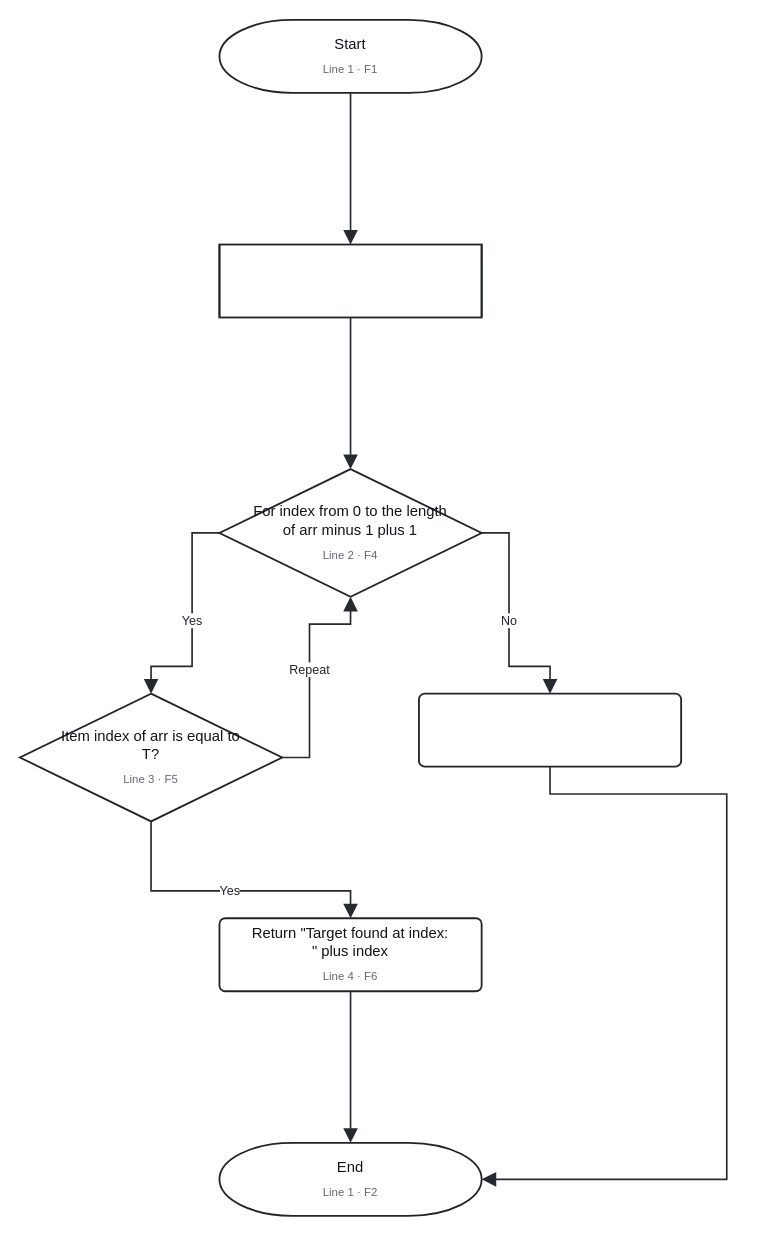
Image size: 760x1237. Some labels were removed from this diagram. The shapes that lost their labels are listed below. From the top down, each one's centre as x and y in pixels, then its label:
point 350,280: Run function LinearSearch with arr, T Line 1 · F3
point 549,729: Return "Target does not exist in the list." Line 7 · F7
